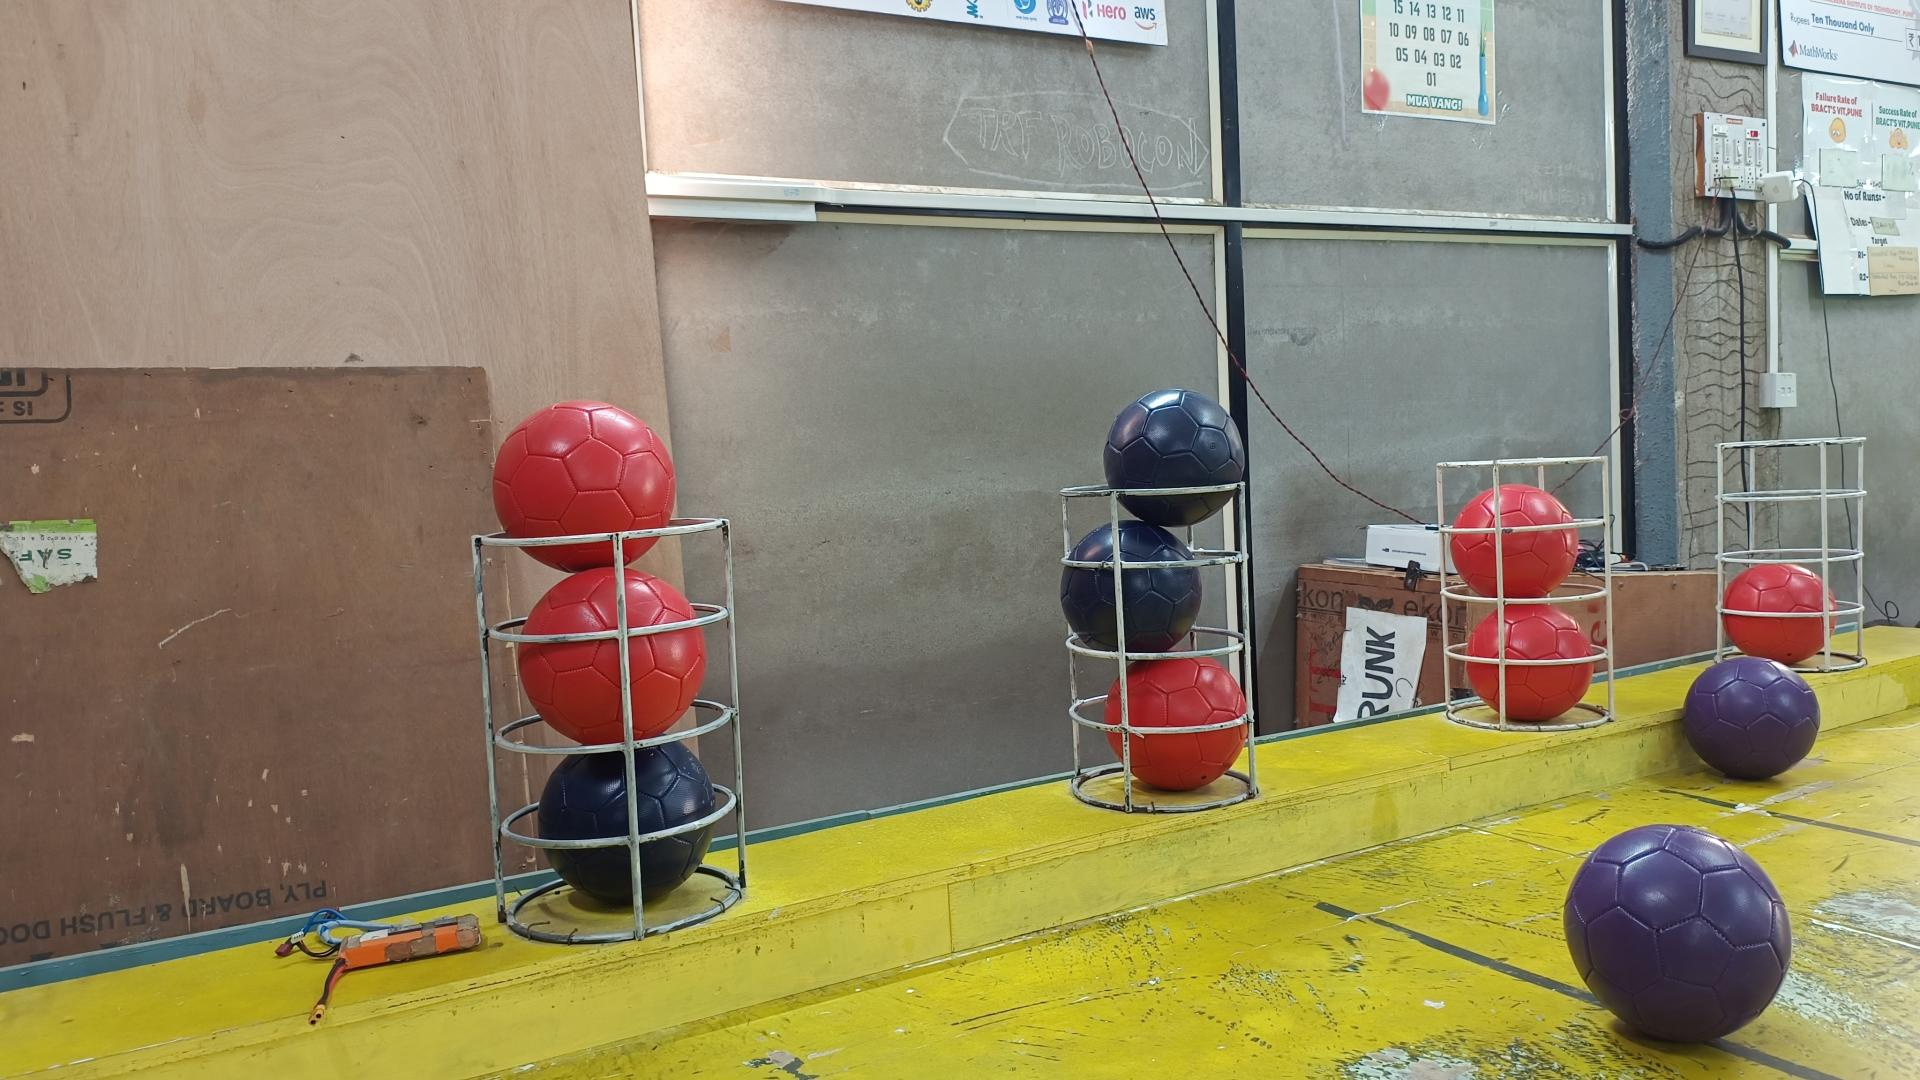dhoka: (537, 742, 716, 903), (1102, 390, 1245, 529), (1062, 517, 1204, 653)
laale: (517, 566, 705, 746), (492, 401, 675, 574), (1102, 657, 1249, 791), (1466, 604, 1594, 724), (1448, 484, 1578, 600), (1721, 563, 1837, 663)
